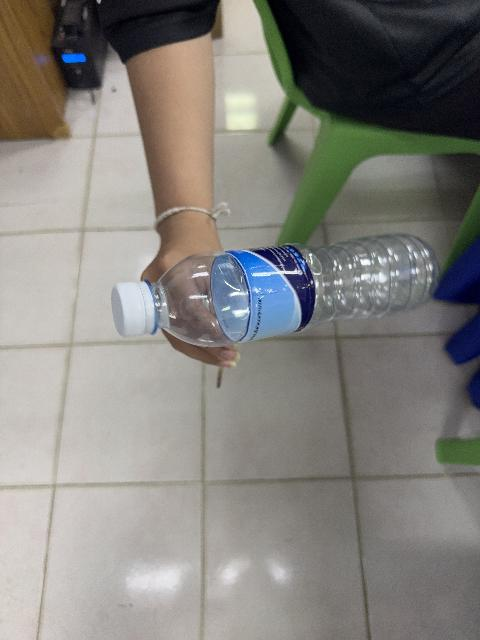bottle: (112, 235, 438, 346)
